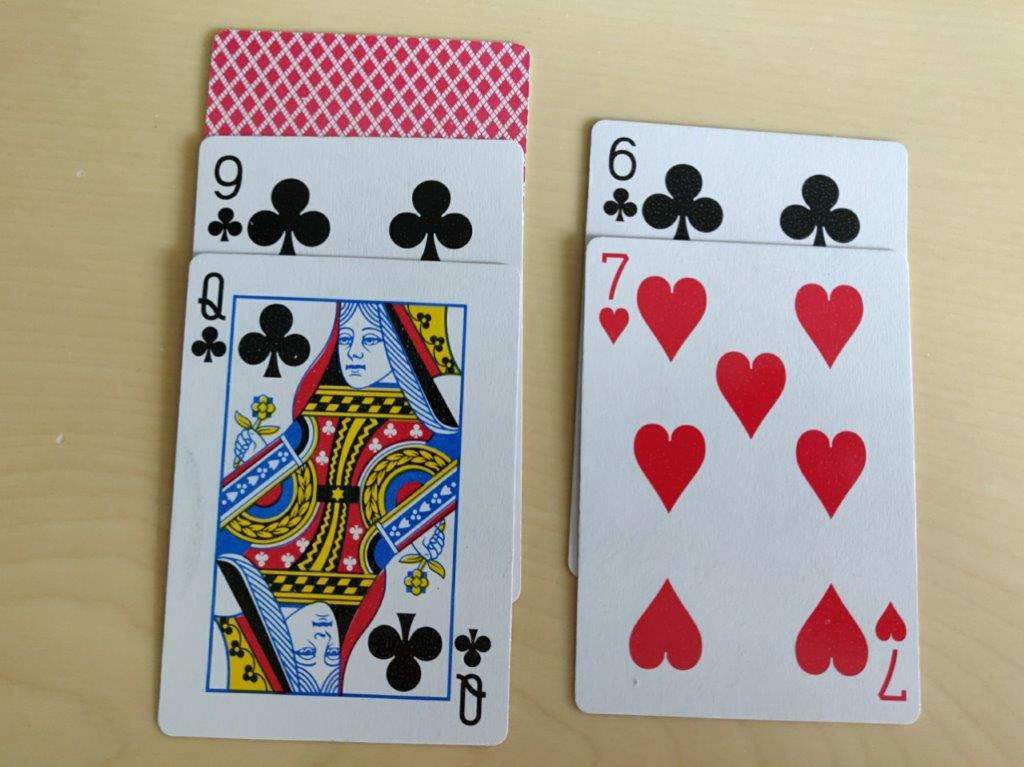6C: (593, 132, 646, 229)
7H: (591, 246, 635, 344)
9C: (202, 145, 244, 252)
BACK: (199, 25, 533, 140)
QC: (189, 271, 228, 371)
